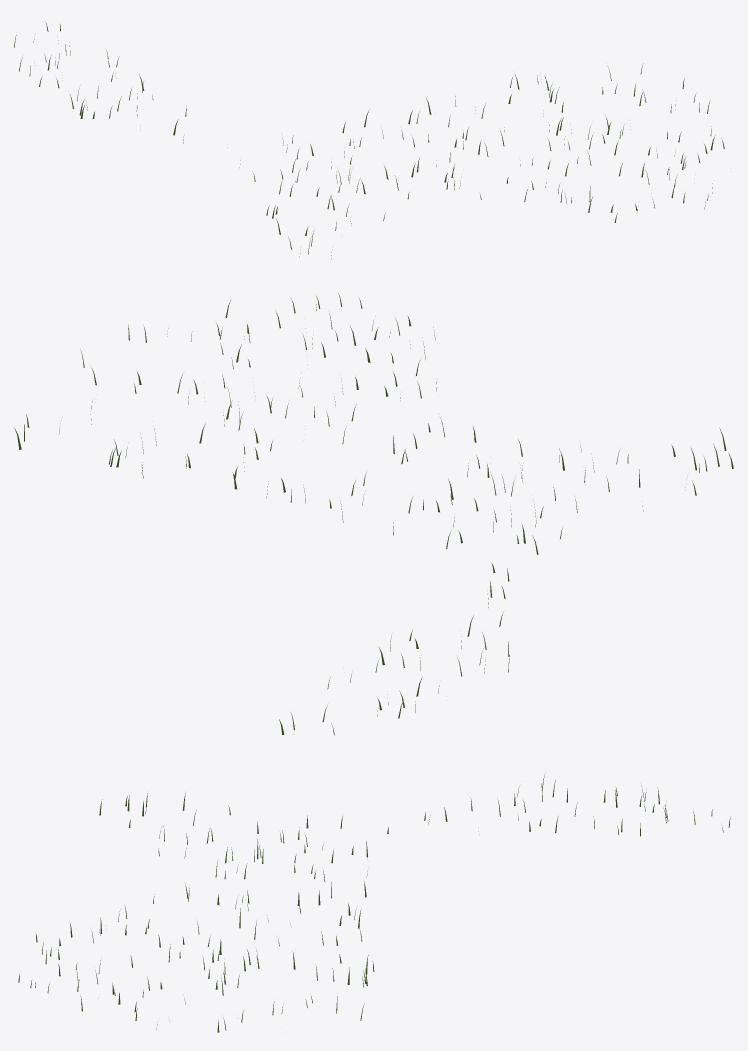
3 views of the same model, one above another, from view 1: azimuth 30°, elevation 25°; view 2: azimuth 150°, elevation 25°; view 3: azimuth 270°, elevation 25° (orthographic). The views are drawn at different scales.
Visible parts, largest first — view 1: GrassPatch; view 2: GrassPatch; view 3: GrassPatch.
Boxes of the visible parts, x1,y1,x2,y2 form: GrassPatch: (14, 22, 724, 259); GrassPatch: (14, 293, 733, 735); GrassPatch: (18, 775, 730, 1032).
Bounding box in the file's own units: 13.27 × 0.4917 × 16.34.
